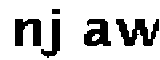a: (78, 17, 112, 48)
j: (43, 8, 68, 60)
n: (12, 15, 45, 50)
w: (116, 17, 160, 48)
